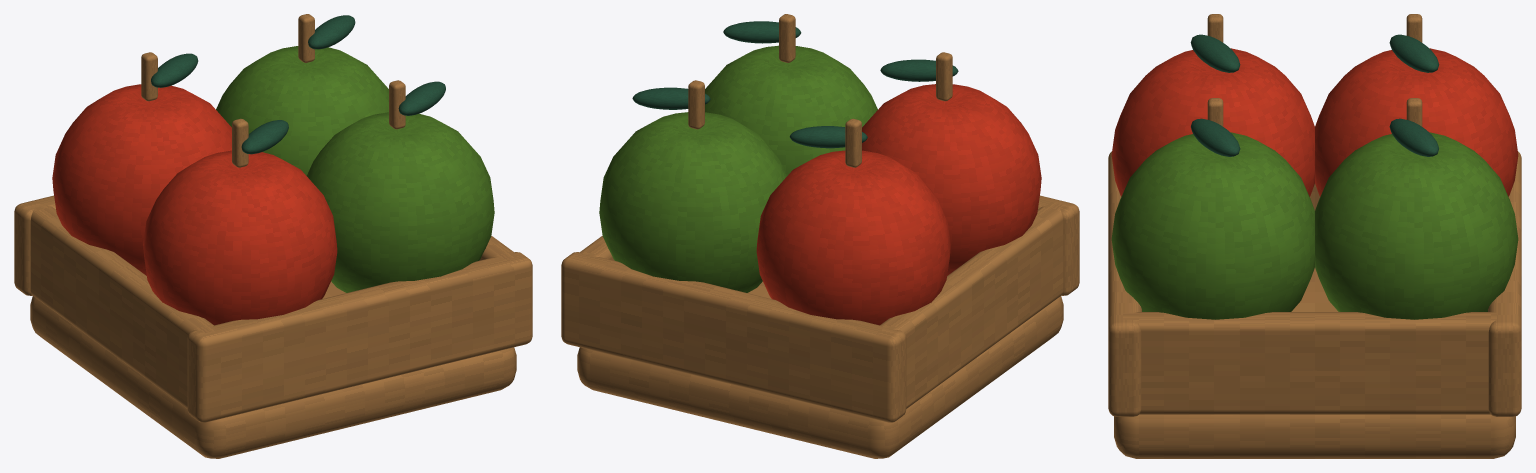
Rendered from apple.fbx.
3 renders of one model, left to right at view 1: azimuth 30°, elevation 25°; view 2: azimuth 150°, elevation 25°; view 3: azimuth 270°, elevation 25°, orthographic. The views are drawn at different scales.
Parts seen in each view (by area): view 1: Crate slat, Apple, Apple.002, Apple.001, Crate floor, Crate slat.002, Apple.003, Crate slat.001, Fresh apple leaf.002, Fresh apple leaf.003, Fresh apple leaf.001, Fresh apple leaf (+4 smaller); view 2: Crate slat.001, Apple.001, Apple.003, Apple, Crate floor, Crate slat.002, Apple.002, Crate slat, Fresh apple leaf.003, Fresh apple leaf.002, Fresh apple leaf.001, Fresh apple leaf (+4 smaller); view 3: Crate slat.003, Apple.003, Apple.002, Crate floor, Apple, Apple.001, Crate slat.001, Crate slat, Fresh apple leaf.001, Fresh apple leaf.003, Fresh apple leaf, Fresh apple leaf.002.
Boxes of the visible parts, x1,y1,x2,y2 form: Crate slat: [187, 252, 532, 422]; Apple: [143, 150, 337, 325]; Apple.002: [307, 112, 494, 292]; Apple.001: [52, 84, 231, 275]; Crate floor: [30, 281, 516, 458]; Crate slat.002: [30, 205, 216, 408]; Apple.003: [216, 46, 388, 175]; Crate slat.001: [14, 195, 55, 295]; Fresh apple leaf.002: [398, 81, 445, 115]; Fresh apple leaf.003: [308, 15, 355, 49]; Fresh apple leaf.001: [151, 53, 198, 87]; Fresh apple leaf: [241, 120, 288, 154]; Crate slat.001: [561, 252, 906, 422]; Apple.001: [756, 150, 950, 325]; Apple.003: [599, 112, 786, 292]; Apple: [862, 84, 1041, 275]; Crate floor: [577, 281, 1063, 458]; Crate slat.002: [880, 202, 1063, 408]; Apple.002: [705, 45, 877, 175]; Crate slat: [1038, 195, 1079, 295]; Fresh apple leaf.003: [632, 87, 710, 109]; Fresh apple leaf.002: [723, 21, 801, 43]; Fresh apple leaf.001: [789, 126, 867, 148]; Fresh apple leaf: [880, 59, 958, 81]; Crate slat.003: [1123, 312, 1496, 414]; Apple.003: [1315, 132, 1518, 319]; Apple.002: [1111, 132, 1314, 319]; Crate floor: [1114, 268, 1515, 458]; Apple: [1111, 48, 1314, 196]; Apple.001: [1315, 48, 1518, 196]; Crate slat.001: [1488, 151, 1521, 416]; Crate slat: [1108, 151, 1141, 416]; Fresh apple leaf.001: [1389, 34, 1439, 72]; Fresh apple leaf.003: [1389, 118, 1438, 156]; Fresh apple leaf: [1190, 34, 1240, 72]; Fresh apple leaf.002: [1191, 118, 1240, 156].
Size of the model in its own units: 94 by 79 by 91.5.
5 materials, 4 textured.
